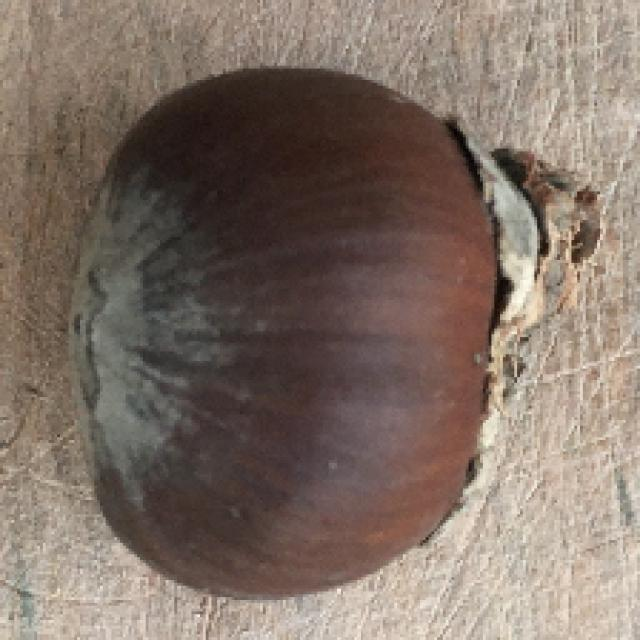damagedHazelnut: (65, 60, 611, 598)
